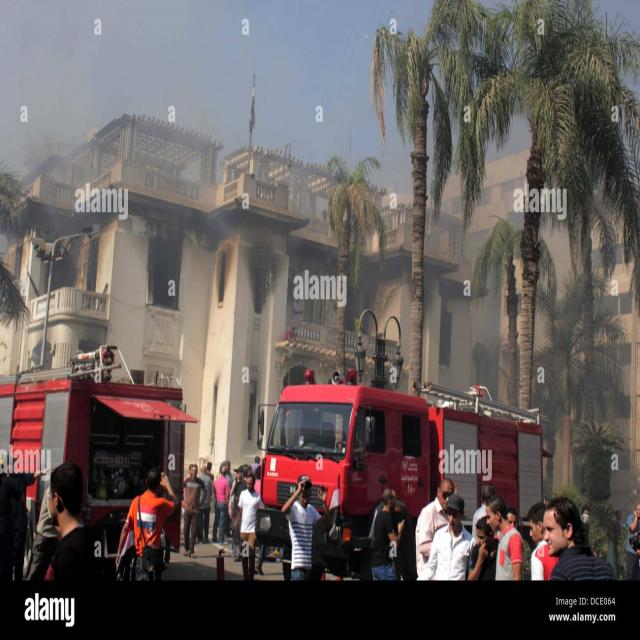Fire-truck: (0, 344, 199, 576), (257, 366, 560, 488)
person: (42, 462, 102, 584), (115, 466, 177, 581), (543, 496, 616, 581), (416, 494, 476, 581), (281, 475, 325, 581), (368, 488, 406, 580), (232, 472, 264, 580), (486, 495, 524, 580), (527, 501, 559, 580), (181, 463, 207, 557), (624, 502, 640, 579)
